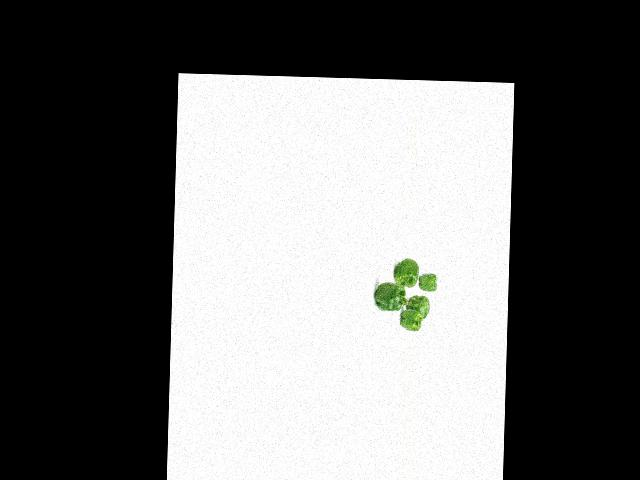bell_pepper: (397, 307, 422, 331)
